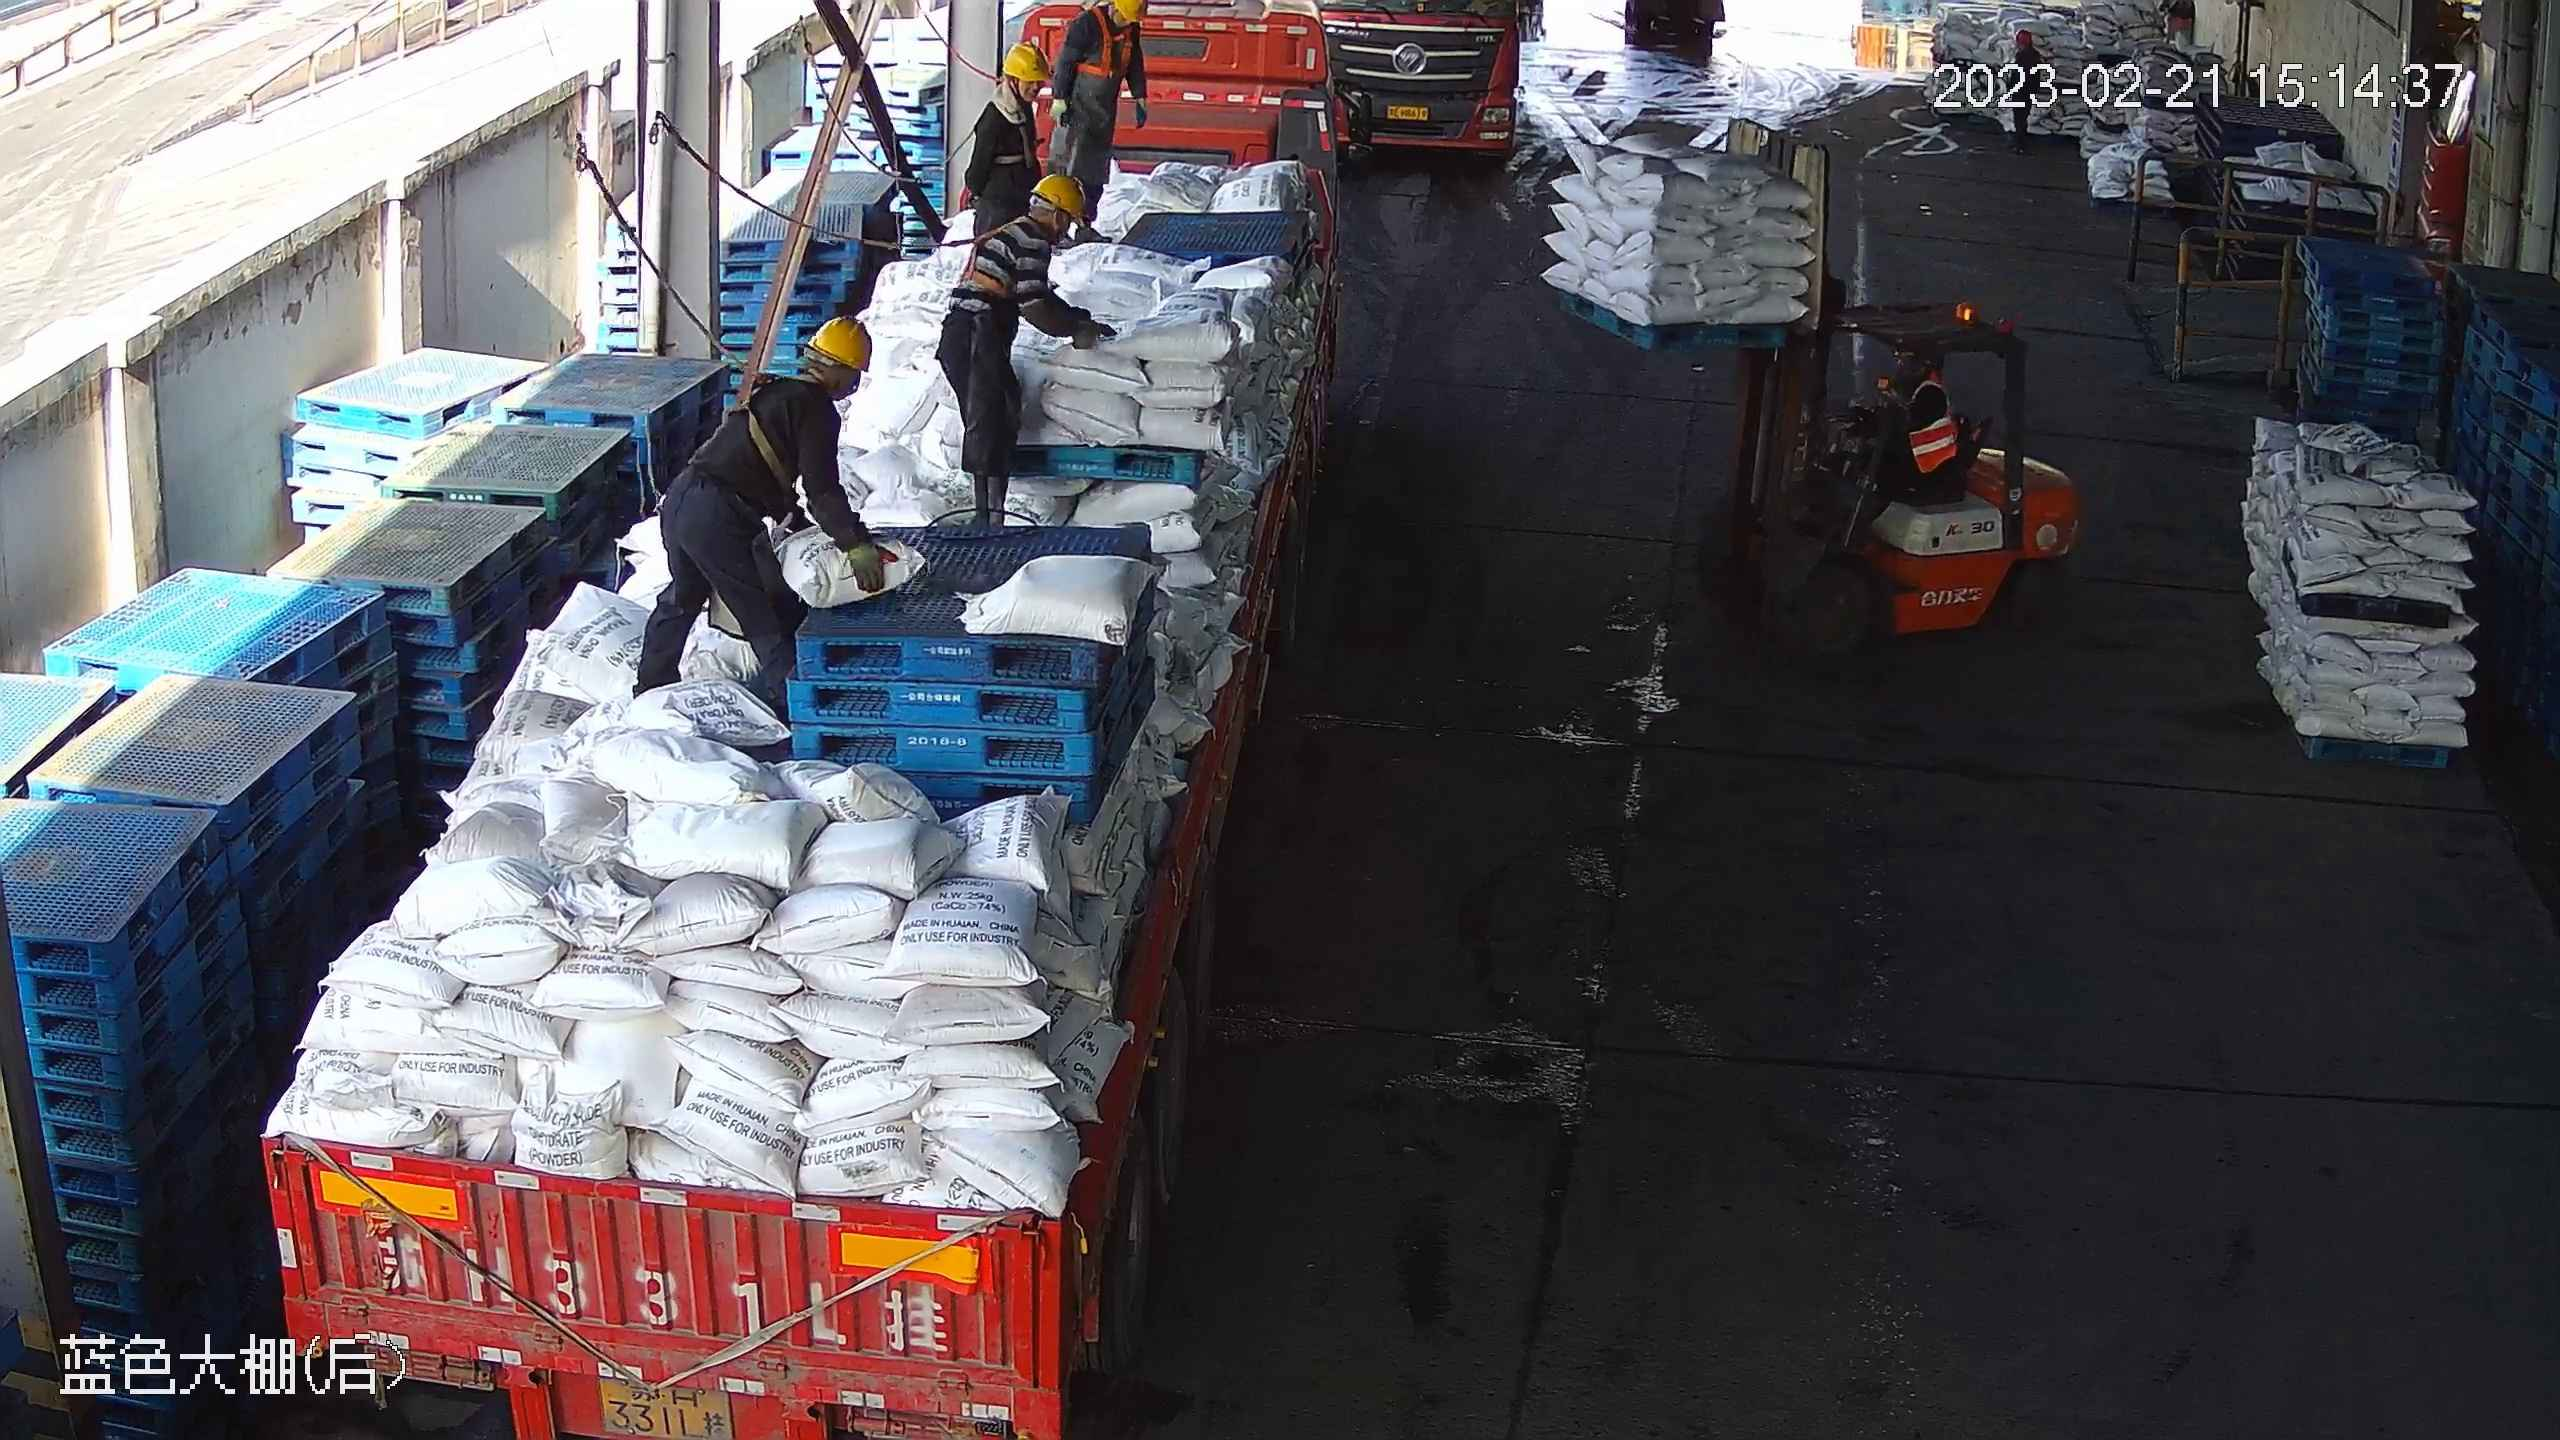belt: (726, 367, 817, 500), (959, 214, 1032, 300), (1077, 8, 1130, 79), (994, 125, 1049, 180)
head: (745, 315, 872, 433), (974, 171, 1087, 251), (976, 38, 1048, 122), (1069, 1, 1149, 53)
helmet: (809, 315, 872, 372), (1030, 172, 1086, 228), (1002, 40, 1052, 82), (1114, 1, 1149, 22)
people: (629, 316, 901, 699), (935, 173, 1116, 526), (1048, 1, 1150, 245), (961, 38, 1051, 240)
truck: (260, 1, 1374, 1440), (1317, 1, 1519, 146)
